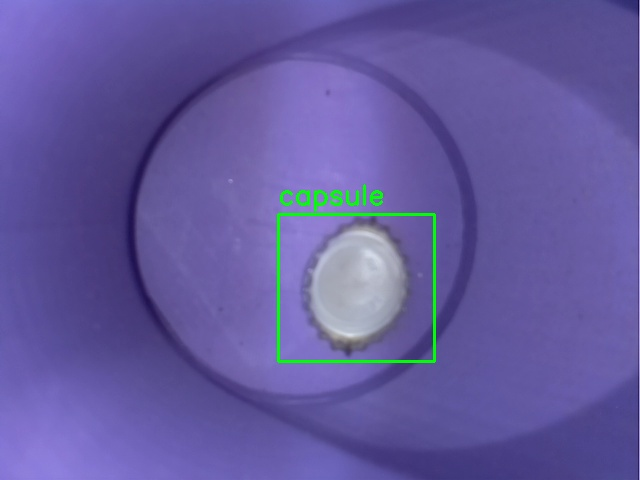capsule: (278, 214, 434, 361)
